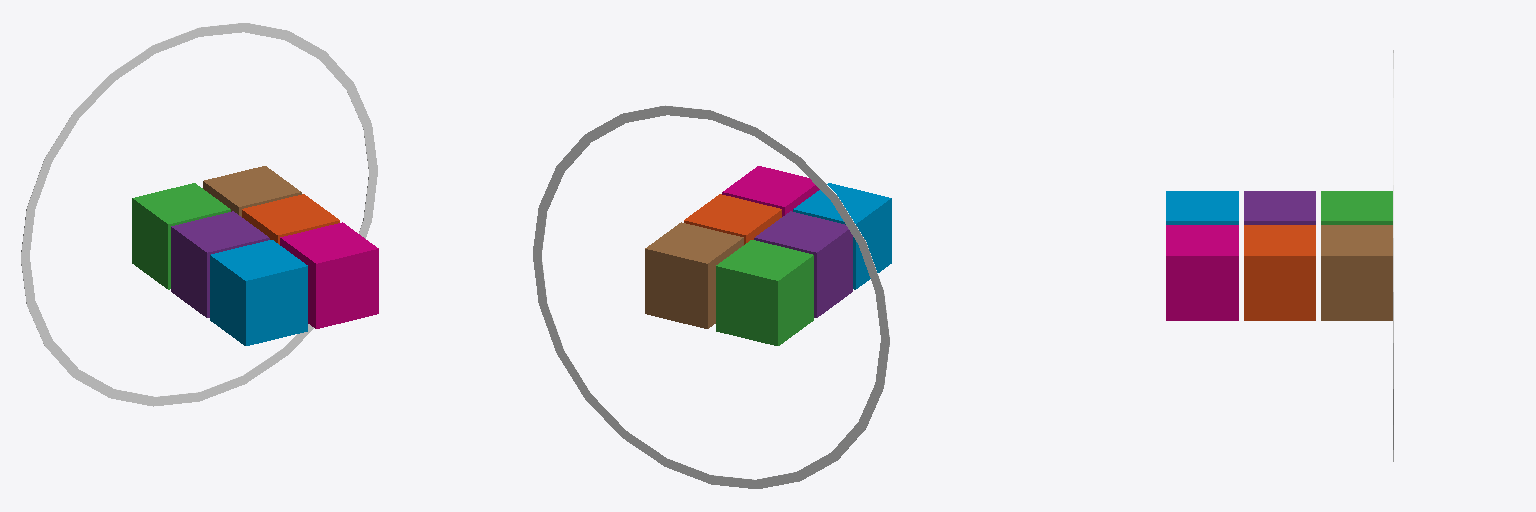
File: tinker.obj
The picture shows the model from 3 angles: view 1: azimuth 30°, elevation 25°; view 2: azimuth 150°, elevation 25°; view 3: azimuth 270°, elevation 25°; orthographic projection.
Parts seen in each view (by area): view 1: obj_0; view 2: obj_0; view 3: obj_0.
Boxes of the visible parts, <box> form: obj_0: <box>21,23,378,406</box>; obj_0: <box>533,105,891,488</box>; obj_0: <box>1166,50,1393,461</box>.
Size of the model in its own units: 400 by 400 by 220.